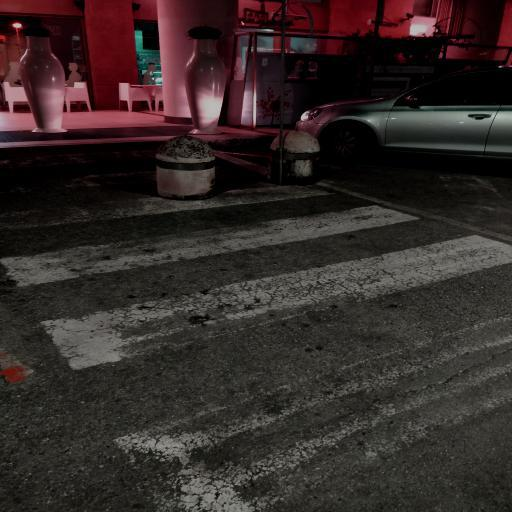crosswalk: (2, 202, 512, 373)
